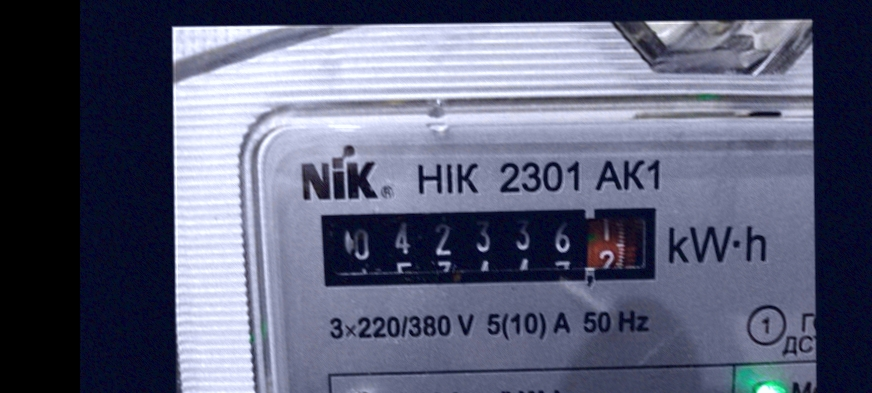0: (352, 228, 373, 263)
1: (600, 216, 613, 246)
2: (433, 223, 454, 260), (598, 250, 617, 272)
3: (512, 218, 533, 255), (474, 219, 494, 257)
4: (393, 221, 413, 258)
6: (551, 221, 574, 256)
screen: (314, 200, 667, 297)
